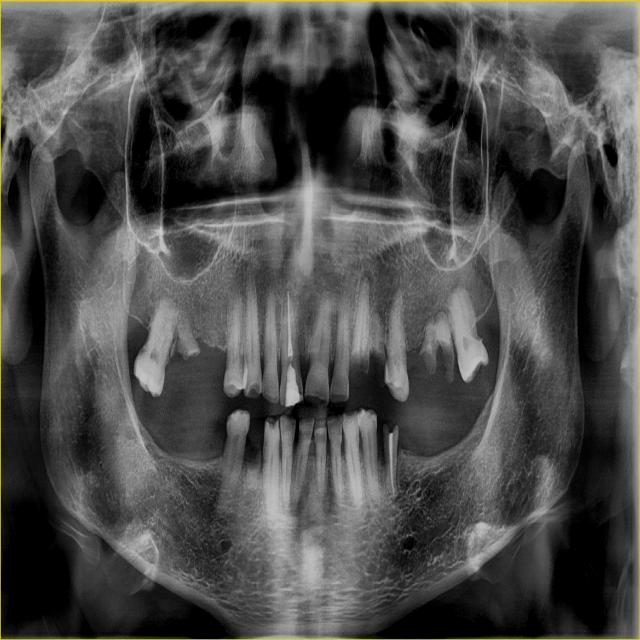Filling: (284, 357, 301, 408)
Missing teeth: (398, 385, 487, 459), (147, 404, 230, 462), (186, 342, 230, 385)
Periapical lesion: (359, 272, 375, 300), (390, 490, 399, 503)
Root Canal Treatment: (287, 290, 294, 356)
Root Piece: (350, 275, 370, 385), (435, 310, 456, 382), (418, 314, 440, 378), (383, 424, 399, 501), (170, 320, 200, 358), (246, 424, 263, 489), (370, 311, 385, 384)
